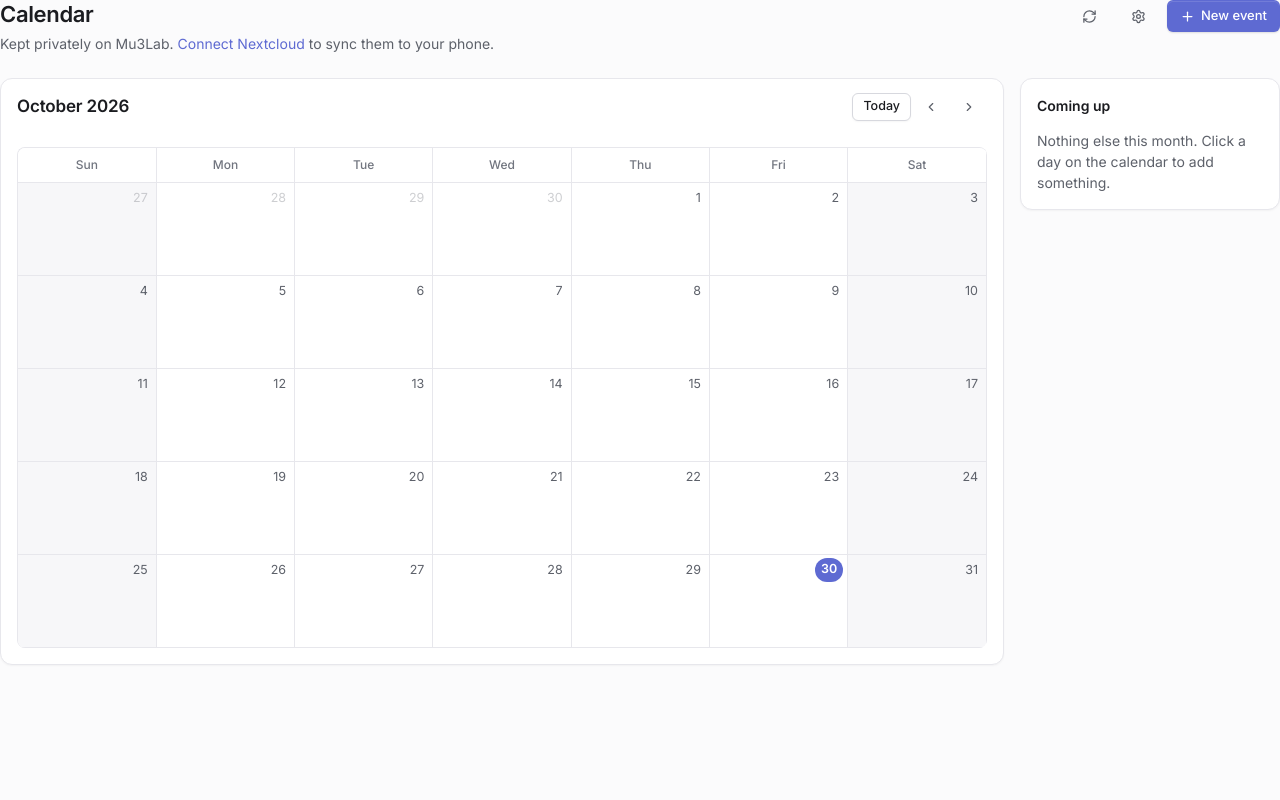
Test: Calendar › opens calendar settings from the Calendar page, not Settings
Click the button "Connect Nextcloud": click(241, 43) left=178, top=33, right=305, bottom=54
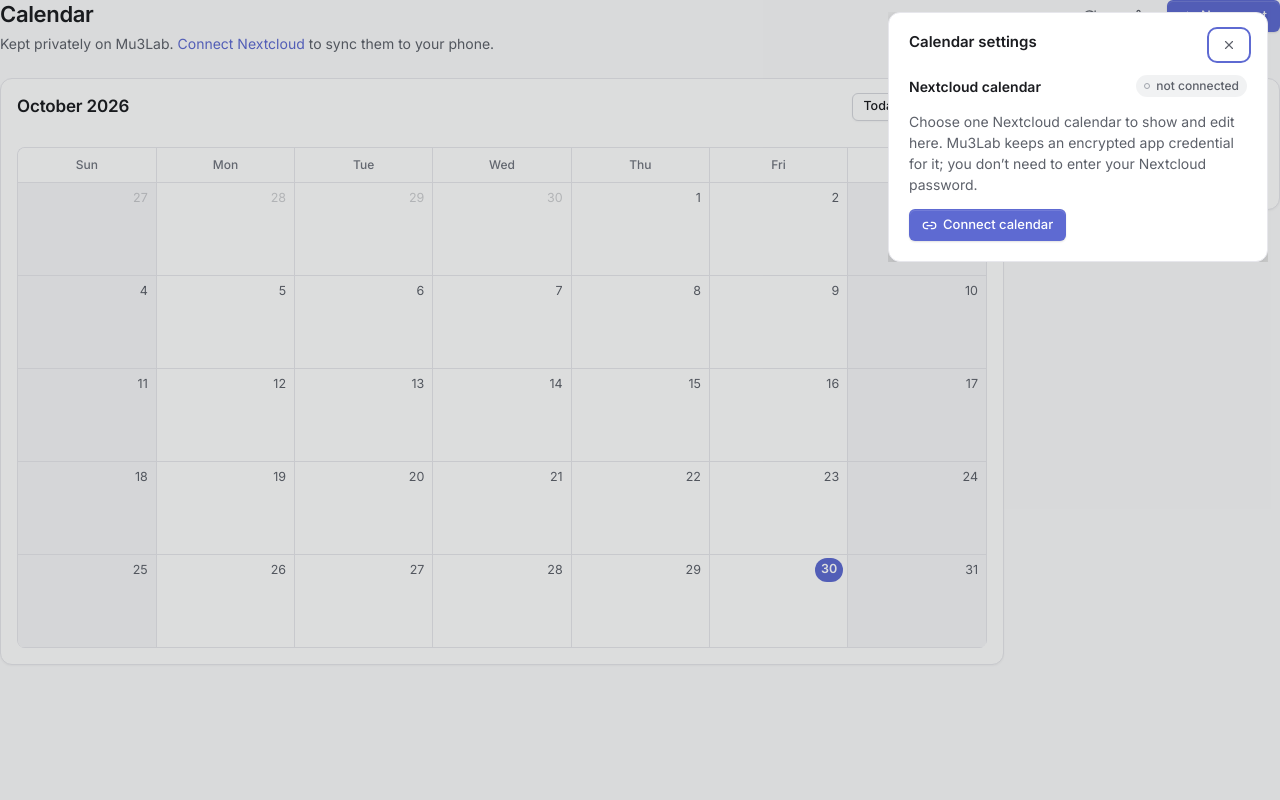
Result: the heading "Nextcloud calendar" is shown at left=909, top=76, right=1041, bottom=96
